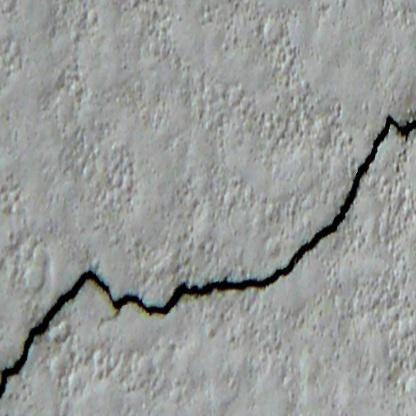Cracks: (0, 101, 416, 416)
